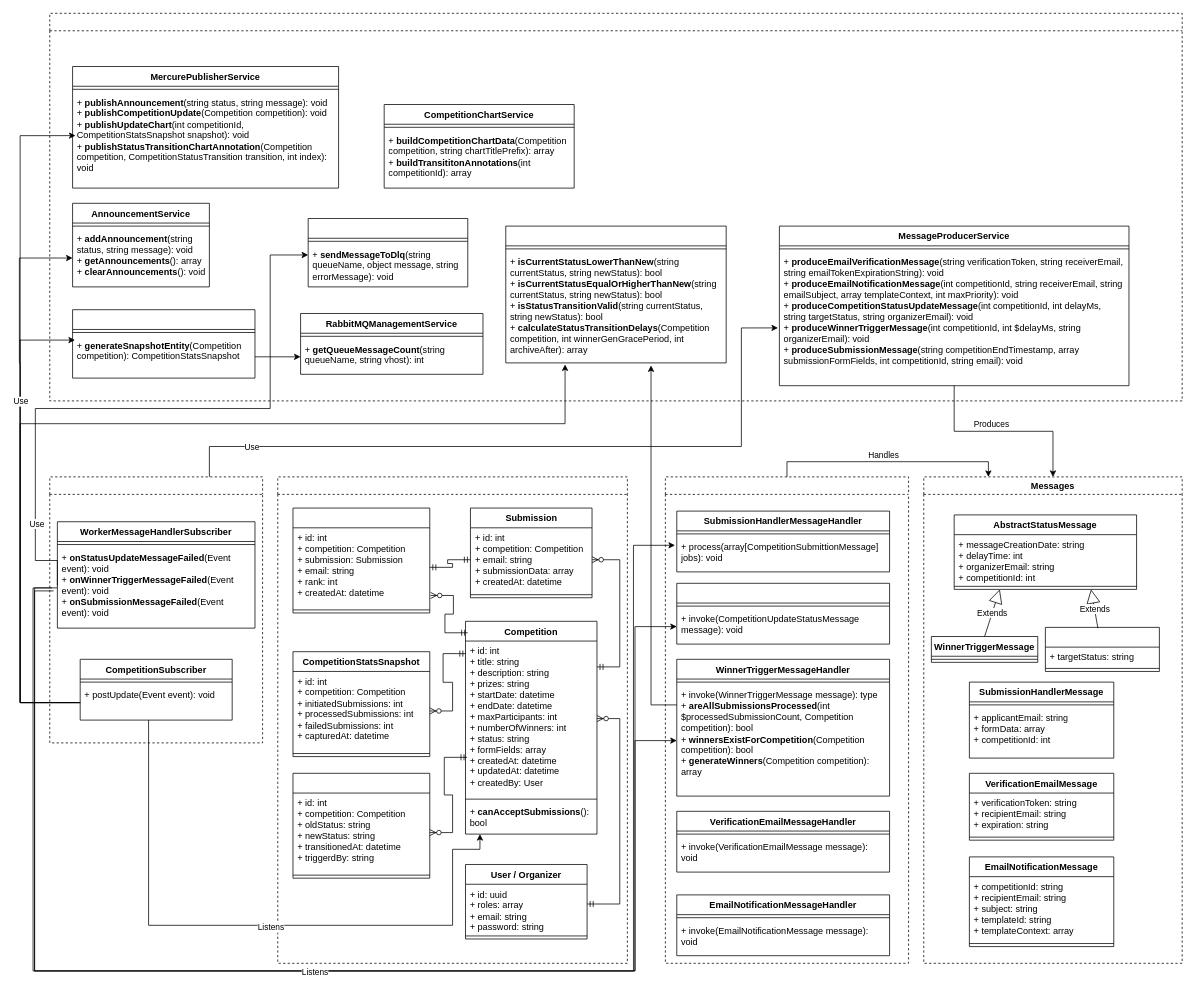
The diagram is 1195 pixels wide and 991 high, and some of its shapes have lost their labels. The box of each missing label's shape, as (x1, y1, x2, y2) in pixels:
CompetitionSnapshotService: (72, 309, 255, 378)
CompetitionStatusManagerService: (505, 225, 726, 363)
CompetitionStatusTransition: (292, 773, 430, 878)
DynamicCompetitionDlqSender: (307, 218, 468, 287)
Entities: (277, 476, 627, 963)
Message Handlers: (665, 476, 909, 963)
Services: (49, 13, 1182, 401)
Subscribers: (49, 476, 263, 743)
UpdateStatusMessage: (1045, 627, 1159, 671)
UpdateStatusMessageHandler: (676, 583, 890, 644)
Winner: (292, 507, 430, 613)
